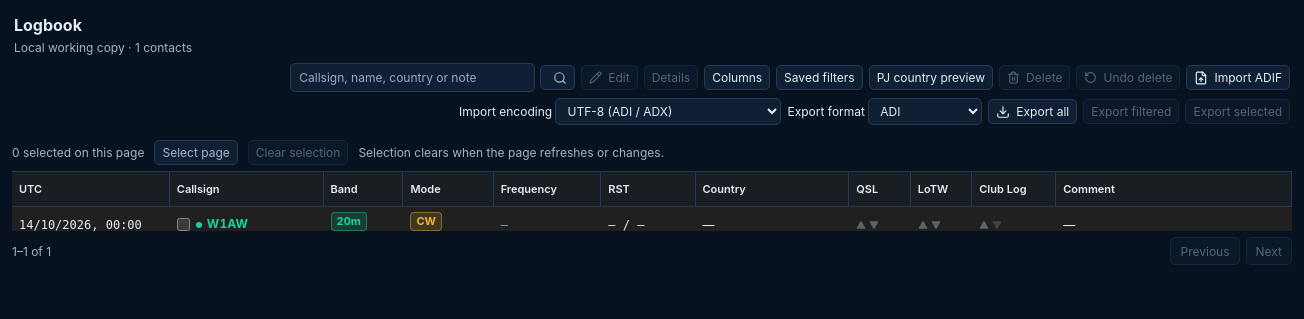
it: saves native all as adx through the chooser without a browser download
The width and height of the screenshot is (1304, 319).
Expected: the text "W1AW" is shown, [170,207,324,231]
Select "ADX (XML)" in the dropdown labelled "Export format": (925, 112) [868,98,982,125]
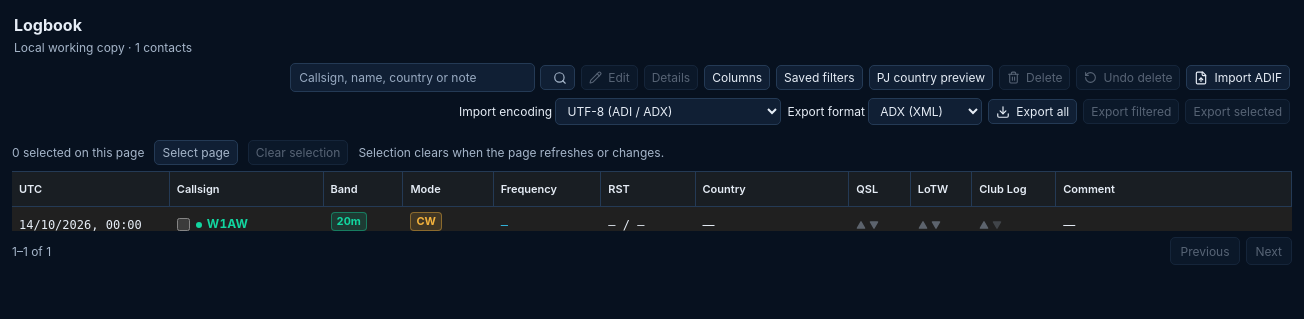
Click the button "Export all": (1033, 112) [988,99,1077,124]
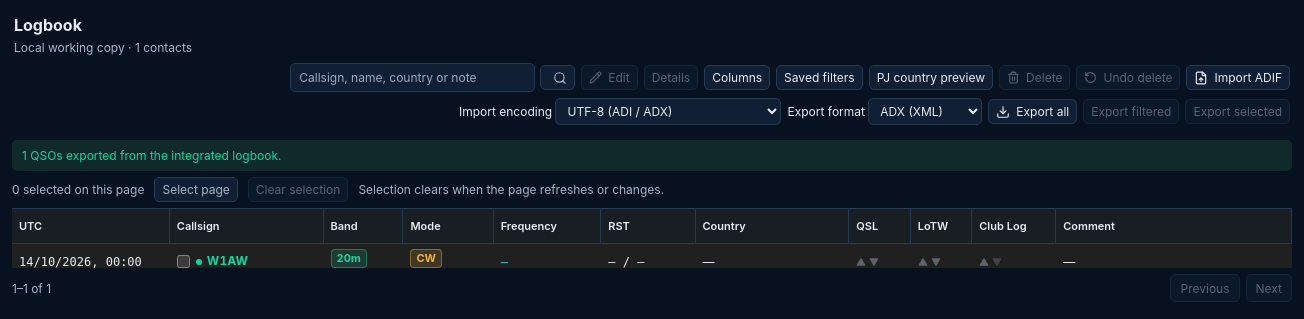
Expected: the text "1 QSOs exported from the integrated logbook." is shown, [12,140,1292,171]
